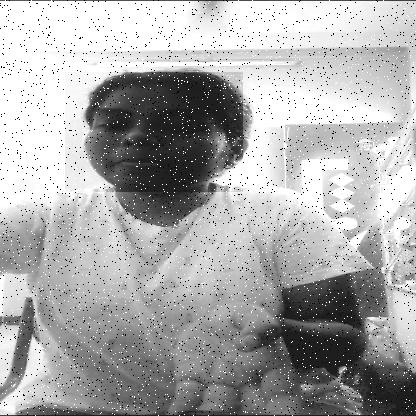Distracted: (65, 72, 243, 192)
